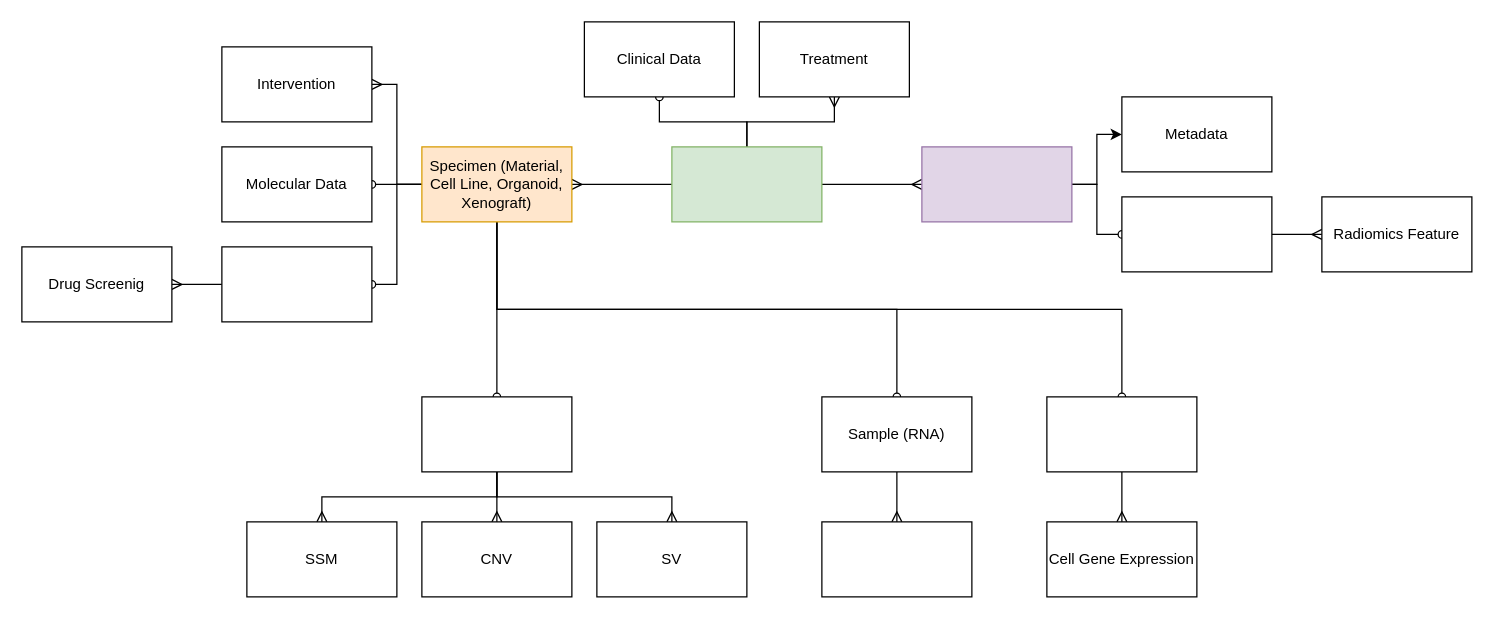
This 1494x619 diagram has some shape labels left out. The box of each missing label's shape, as (x1, y1, x2, y2) in pixels:
Donor: (671, 146, 822, 222)
Gene Expression: (821, 521, 972, 597)
Image (MRI): (921, 146, 1072, 222)
Sample (DNA): (421, 396, 572, 472)
Sample (DSA): (221, 246, 372, 322)
Sample (RFE): (1121, 196, 1272, 272)
Sample (scRNA): (1046, 396, 1197, 472)
